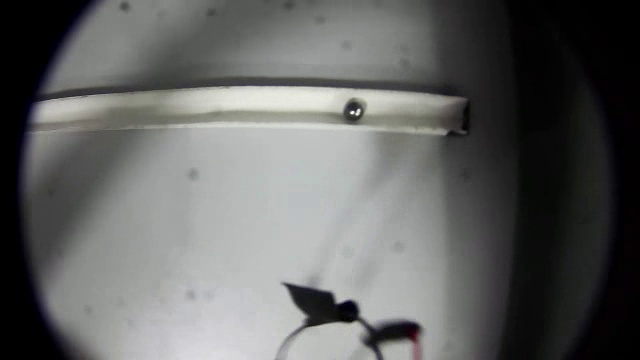gangzhu: (342, 99, 366, 123)
